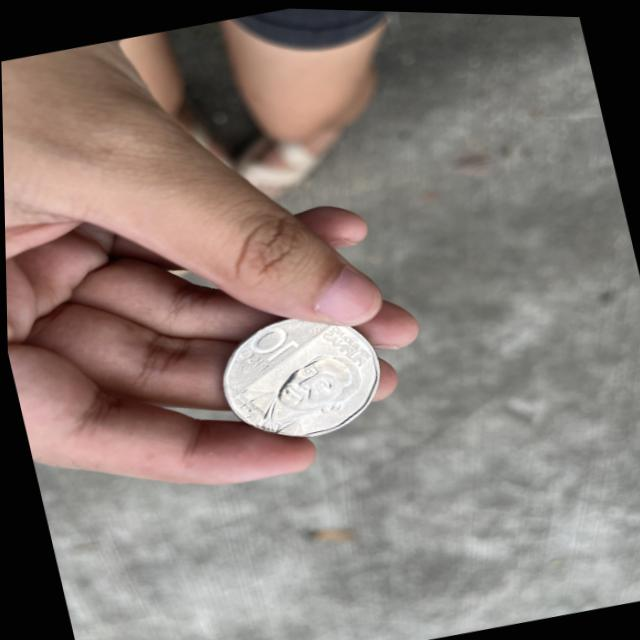10_New_Front: (226, 319, 301, 378)
